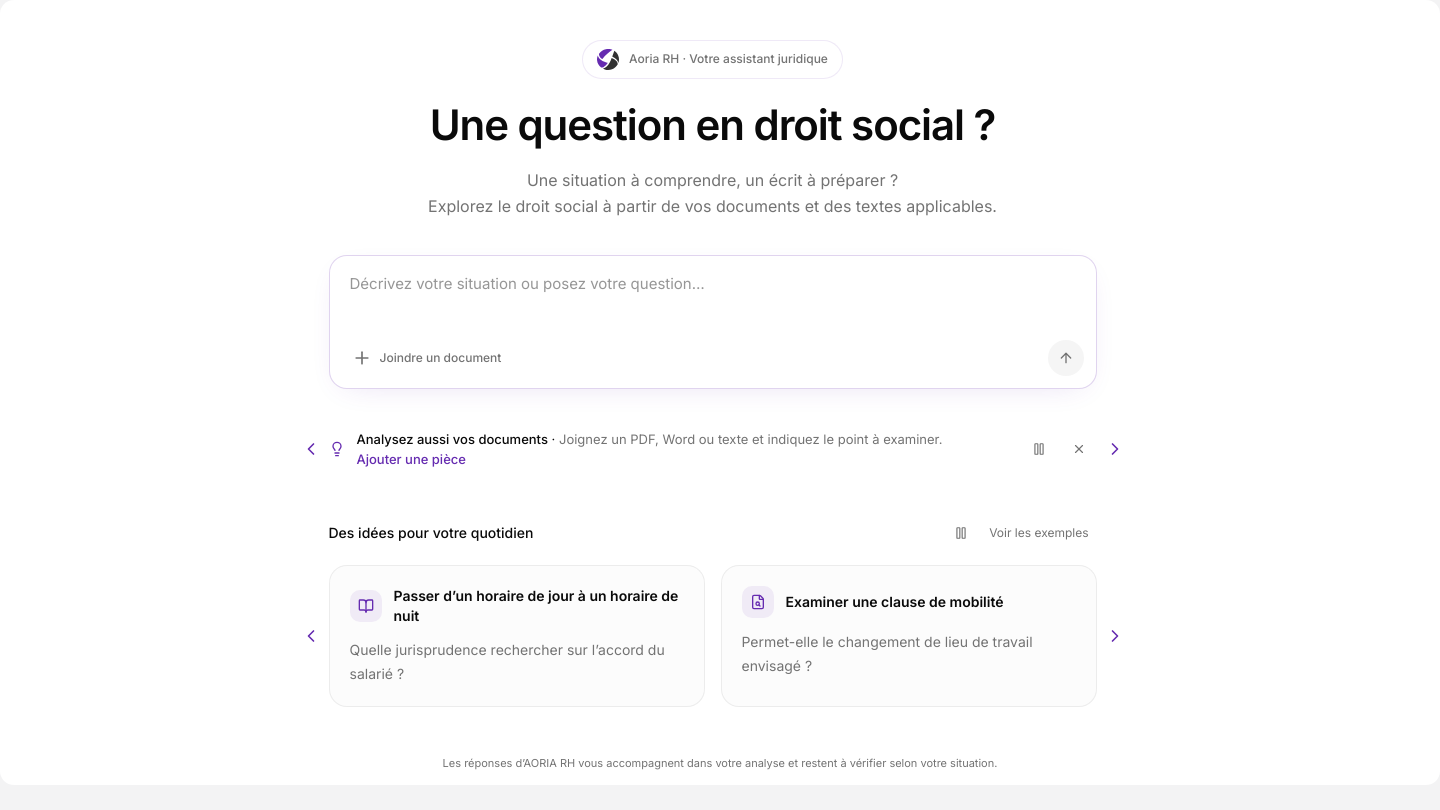
Test: shows the input, rotating ideas, then two carousel cards for juriste
Click the button "Passer d’un horaire de jour à un horaire de nuit".
click(366, 606)  # box [328,565,704,707]
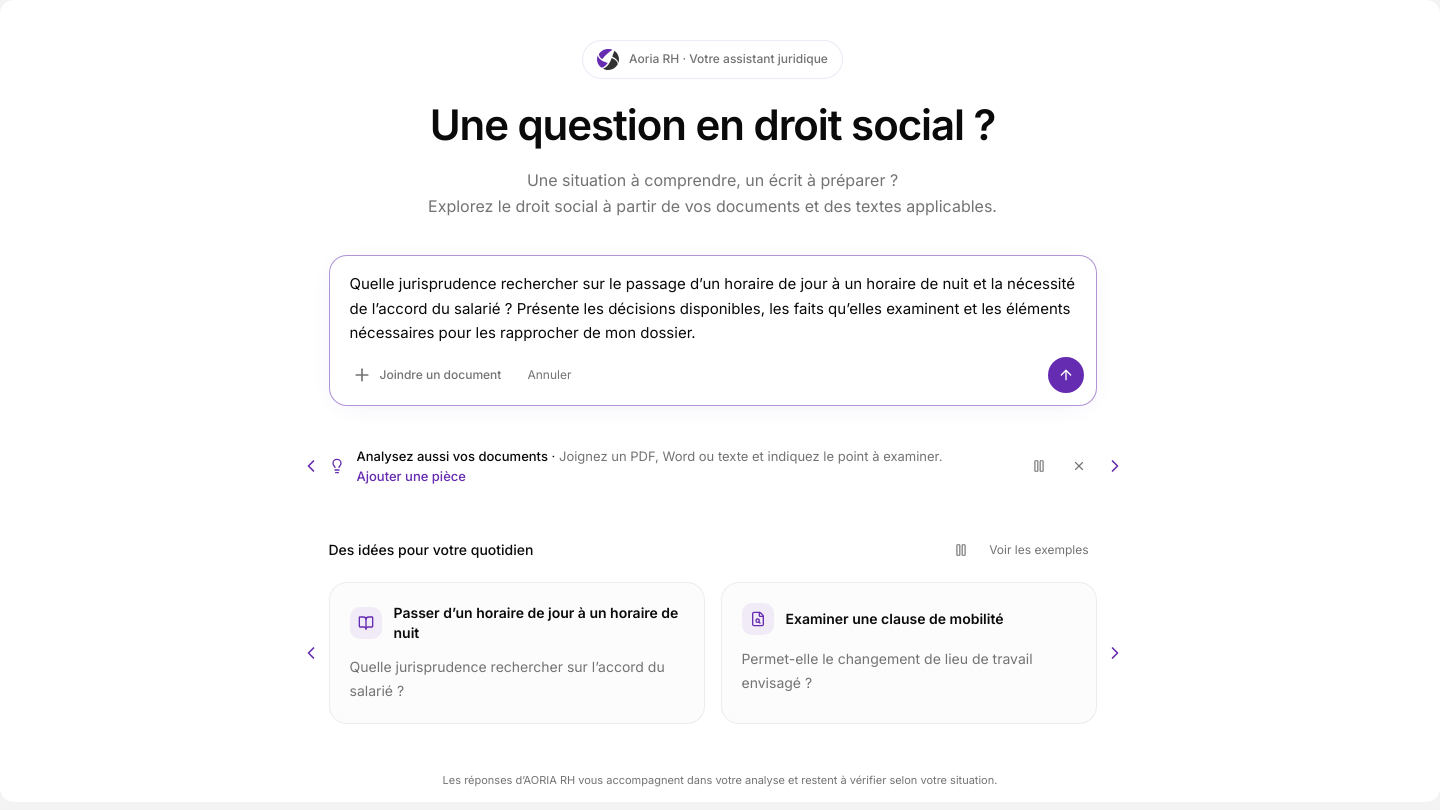
Now the text box is not empty, box [330,256,1096,353]
